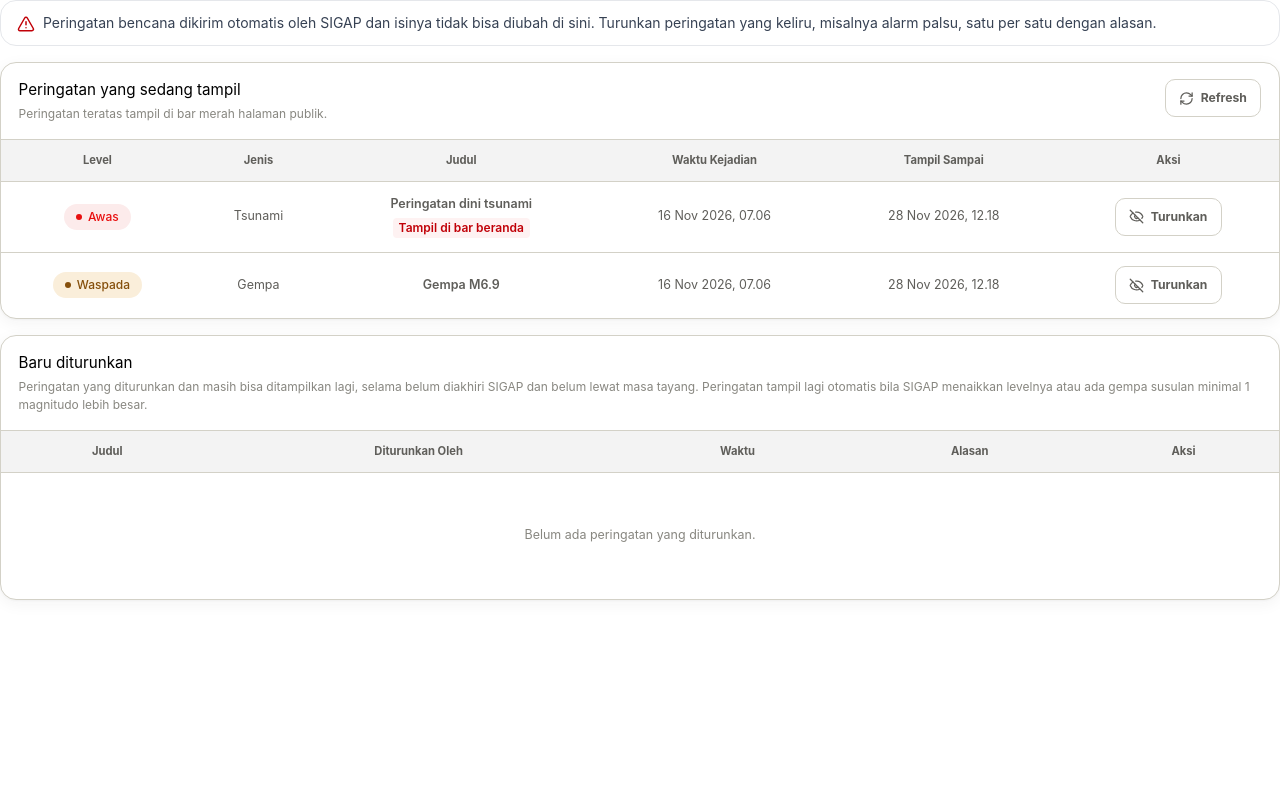
Test: PeringatanSigapPanel › dismisses an alert with a reason and moves it to "Baru diturunkan"
Click the button "Turunkan" in the row of "Awas".
click(1168, 217)  # box [1115,198,1222,236]
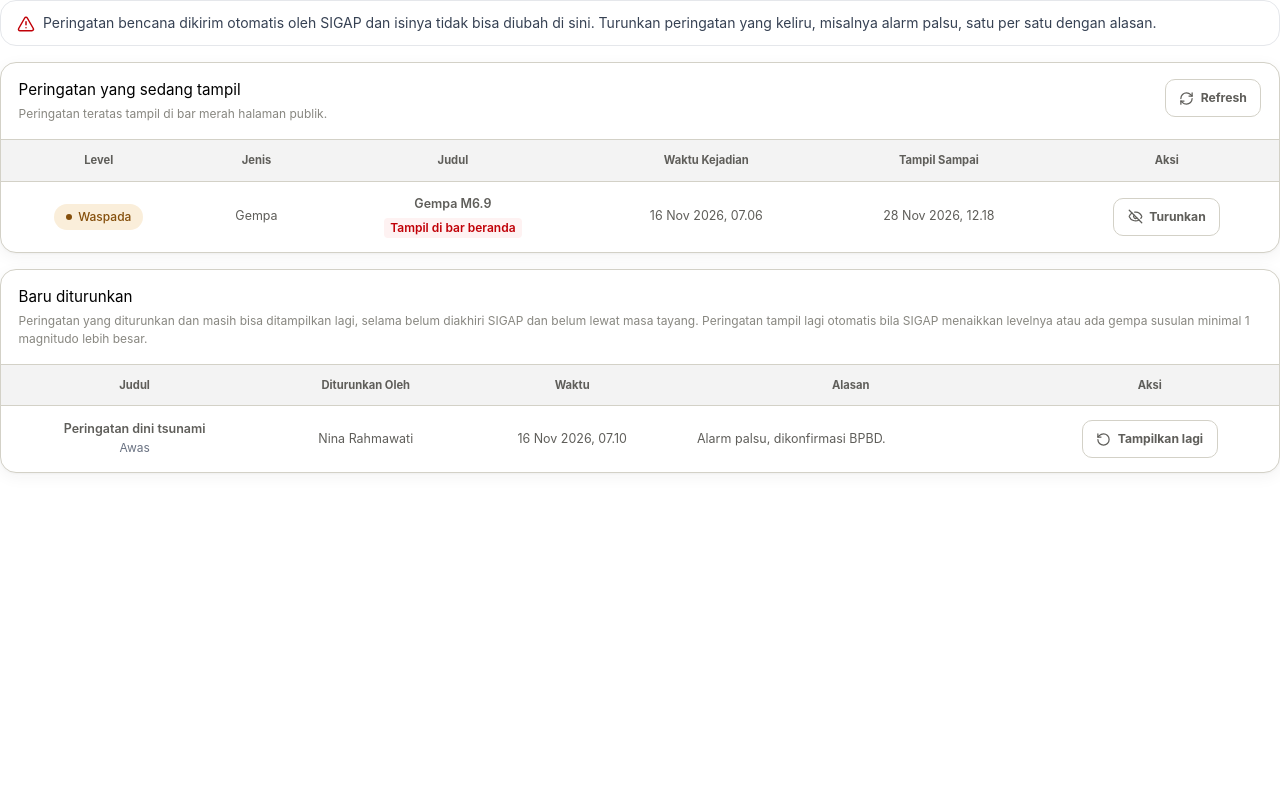
Expected: the text "Peringatan dini tsunami" is shown, [64,421,206,436]
Expected: the element "Baru diturunkan" shows "Nina Rahmawati", [318,431,413,446]
Expected: the element "Baru diturunkan" shows "Alarm palsu, dikonfirmasi BPBD.", [697,431,886,446]
